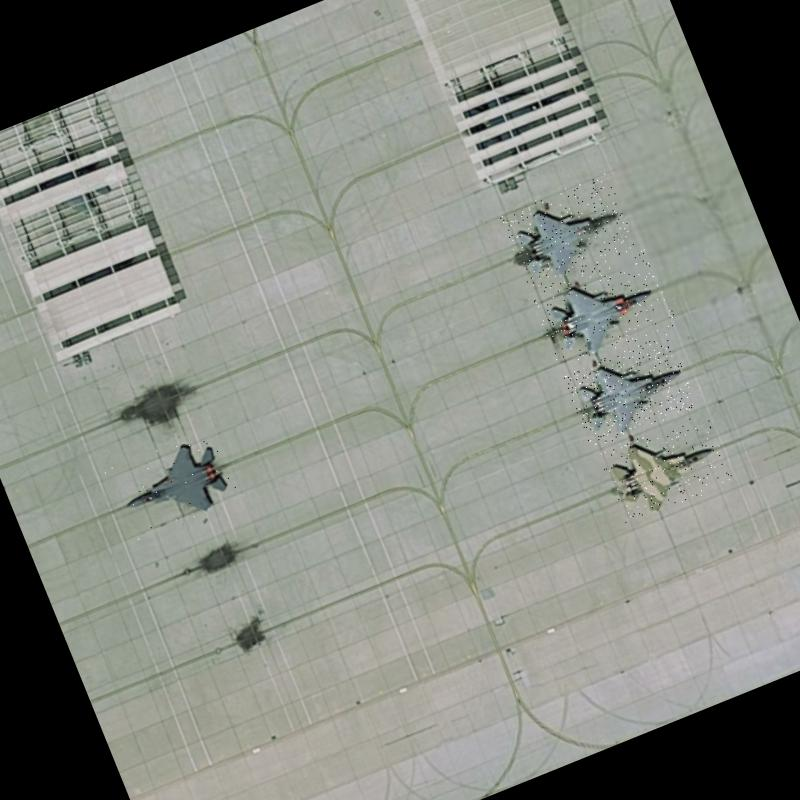A13: (530, 246, 678, 370), (98, 423, 244, 545), (499, 171, 640, 296), (561, 332, 698, 449), (598, 410, 734, 526)
